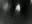person: (4, 3, 10, 13), (17, 5, 22, 14)
